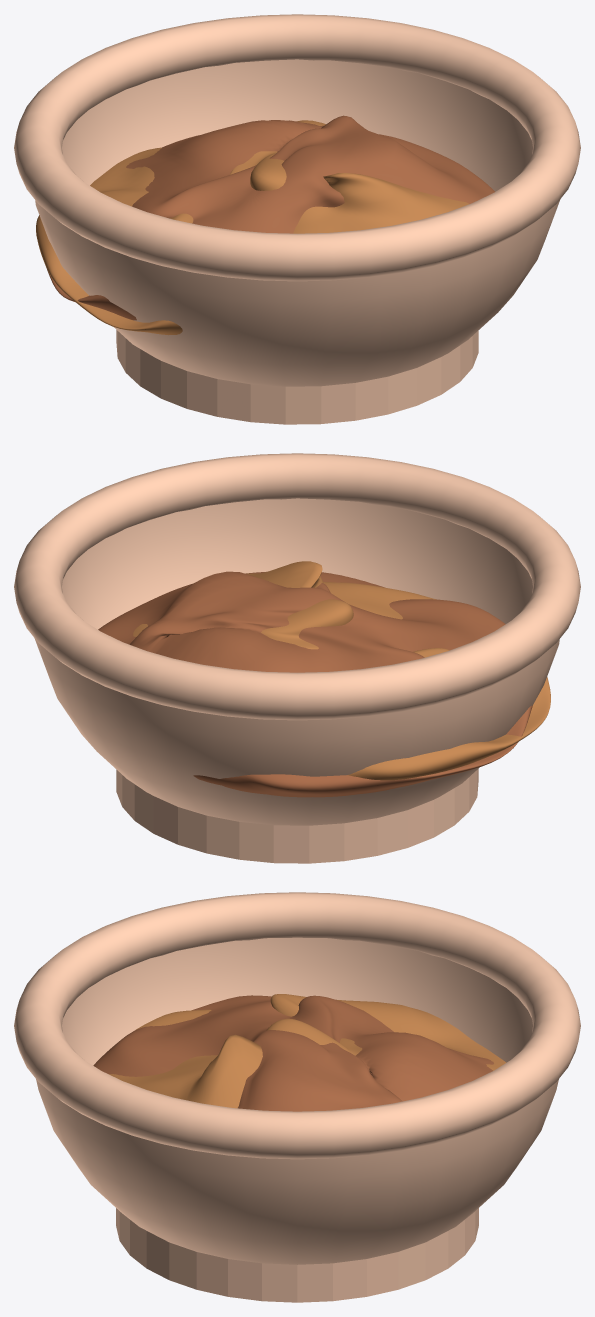
File: chaipohbowl11.fbx
The picture shows the model from 3 angles, top to bottom: view 1: azimuth 30°, elevation 25°; view 2: azimuth 150°, elevation 25°; view 3: azimuth 270°, elevation 25°; orthographic projection.
Visible parts, largest first — view 1: Sphere.020, Torus.010, Sphere.022, Cylinder.023, Sphere.021; view 2: Sphere.020, Torus.010, Sphere.022, Cylinder.023, Sphere.021; view 3: Sphere.020, Torus.010, Sphere.022, Cylinder.023, Sphere.021.
Part boxes in pixels (left/top/right/bottom): Sphere.020: left=35, top=59, right=560, bottom=386; Torus.010: left=14, top=14, right=580, bottom=281; Sphere.022: left=46, top=115, right=494, bottom=320; Cylinder.023: left=116, top=330, right=478, bottom=424; Sphere.021: left=36, top=120, right=468, bottom=335; Sphere.020: left=34, top=498, right=559, bottom=825; Torus.010: left=14, top=453, right=580, bottom=720; Sphere.022: left=98, top=571, right=532, bottom=797; Cylinder.023: left=116, top=769, right=478, bottom=863; Sphere.021: left=133, top=561, right=550, bottom=780; Sphere.020: left=36, top=937, right=558, bottom=1264; Torus.010: left=14, top=892, right=580, bottom=1159; Sphere.022: left=93, top=995, right=493, bottom=1111; Cylinder.023: left=116, top=1208, right=478, bottom=1302; Sphere.021: left=109, top=994, right=506, bottom=1108.
Size of the model in its own units: 313 by 148 by 313.
